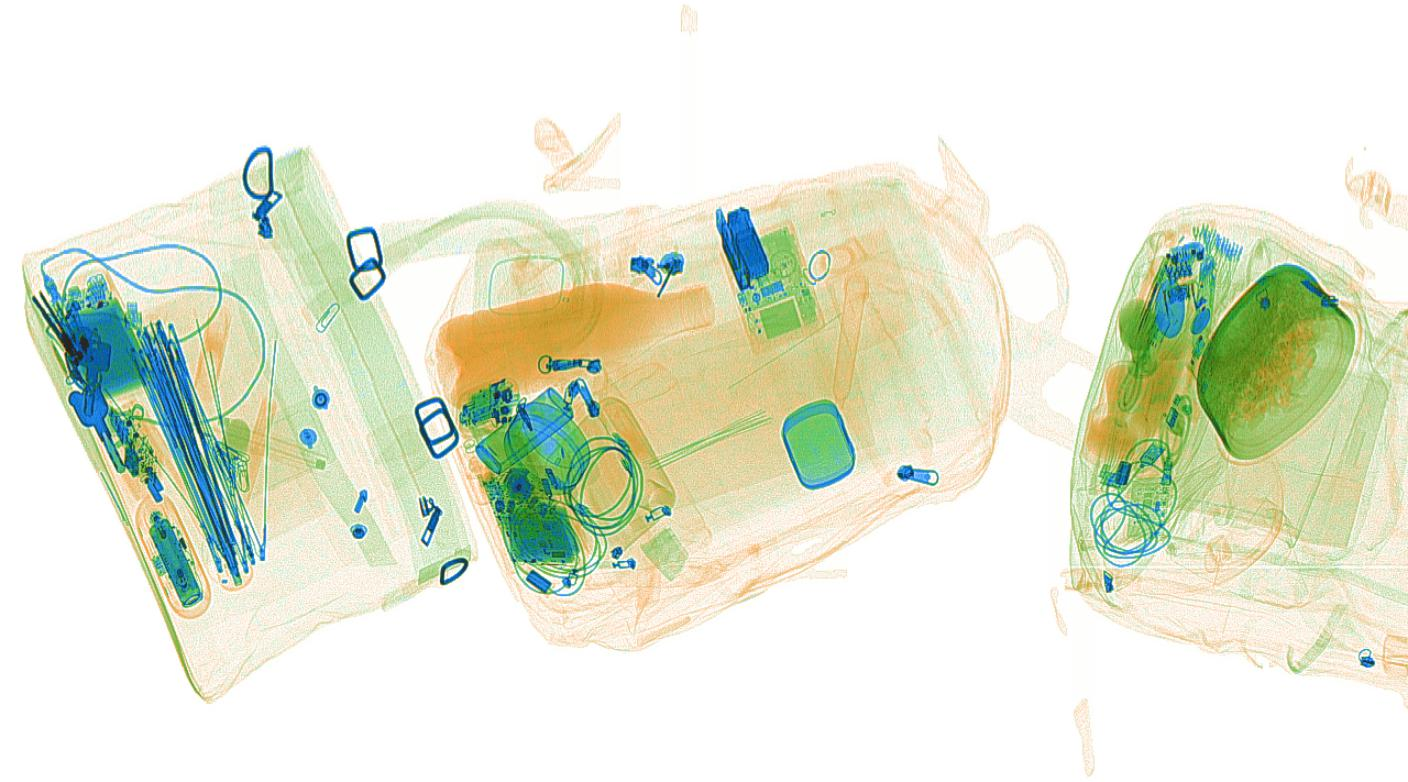battery: (147, 517, 203, 608)
seal: (1079, 358, 1155, 473), (1113, 296, 1159, 378)
